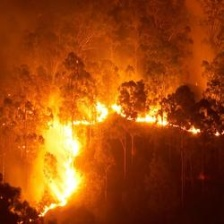fire: (85, 98, 204, 133), (37, 116, 78, 212)
